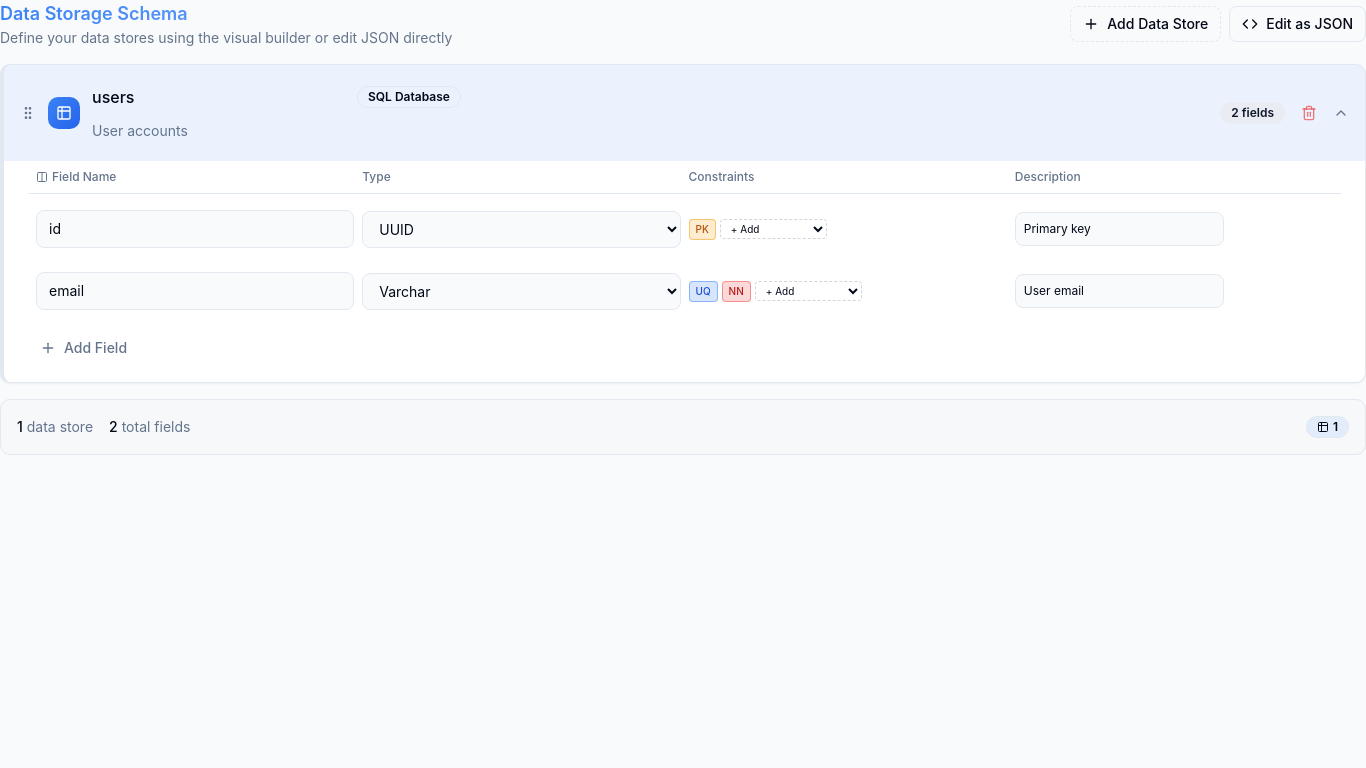
SchemaEditor › JSON Editor Toggle › hides JSON editor when Hide JSON is clicked
Step 1. Click the button "Edit as JSON" → (1298, 24), box x1=1229 y1=6 x2=1365 y2=42
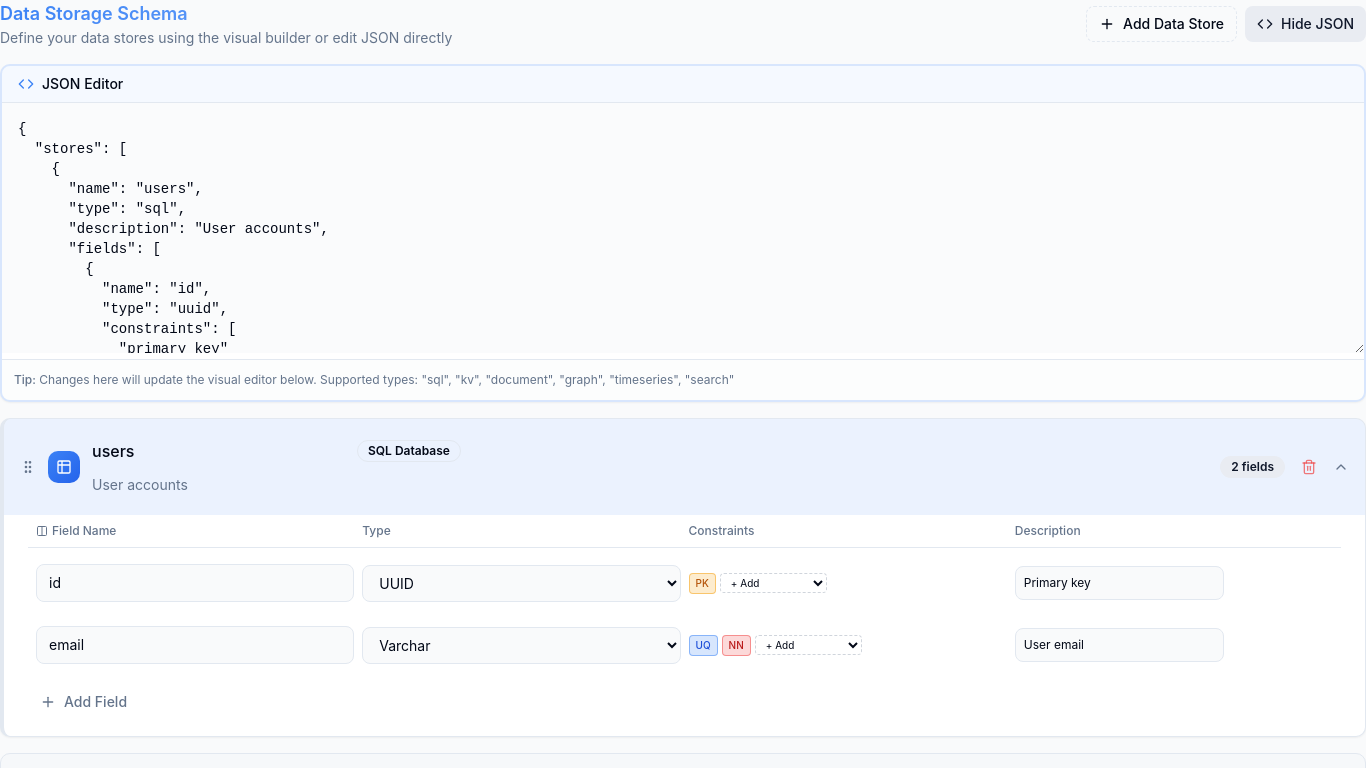
Check: the text "JSON Editor" is shown, box x1=18 y1=74 x2=123 y2=94
Step 2. Click the button "Hide JSON" → (1306, 24), box x1=1245 y1=6 x2=1365 y2=42
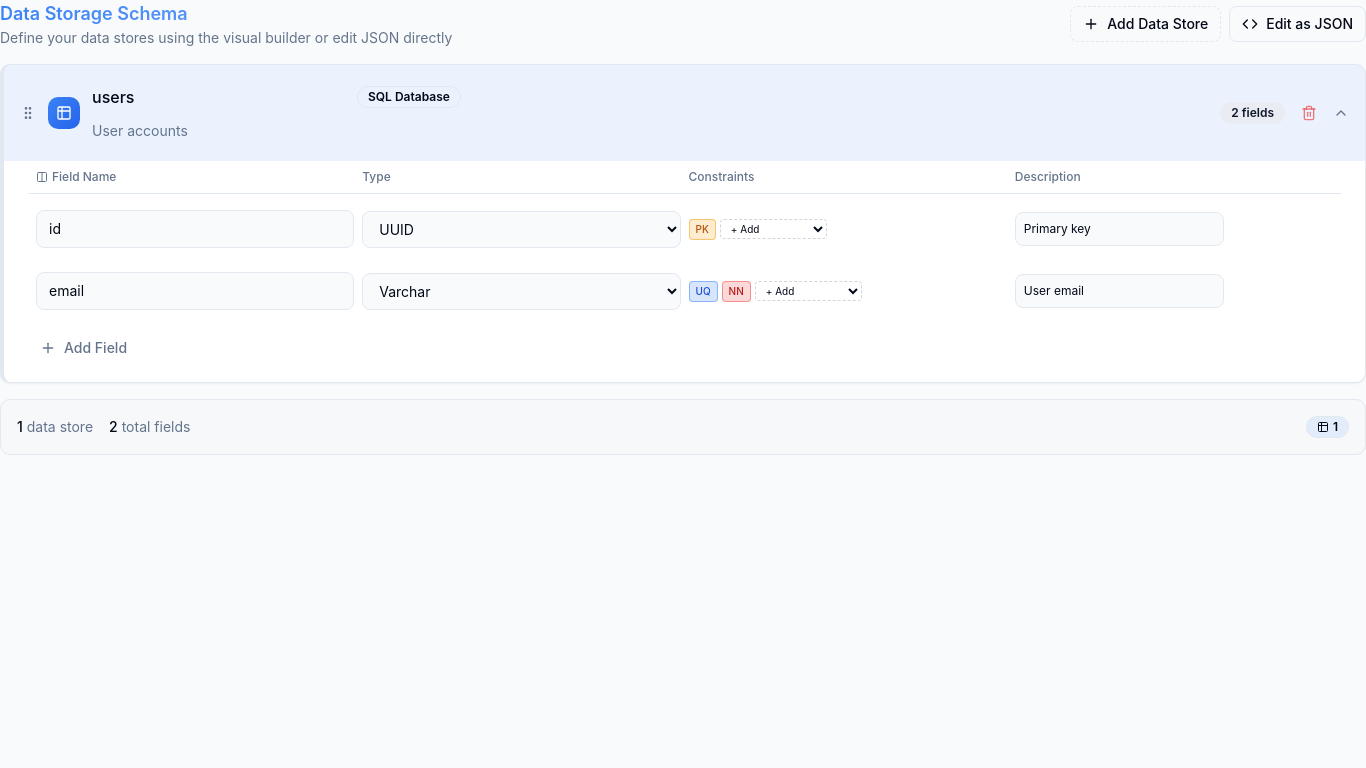
Check: the text "JSON Editor" is gone
